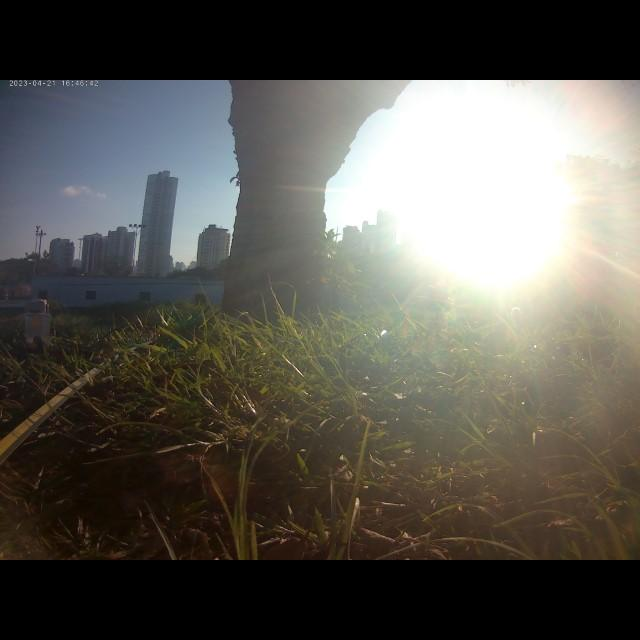arvore: (215, 80, 408, 321)
